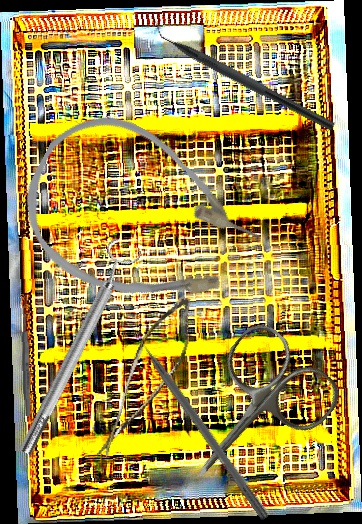Cannula: (1, 93, 280, 344)
Chopper: (142, 14, 342, 132)
Fixation Ring: (6, 236, 146, 461)
Iris Scissors: (154, 315, 348, 514)
Micro Scissor: (95, 286, 202, 472)
Pusher: (125, 319, 272, 522)
Surgical Spoon: (19, 296, 33, 417)
